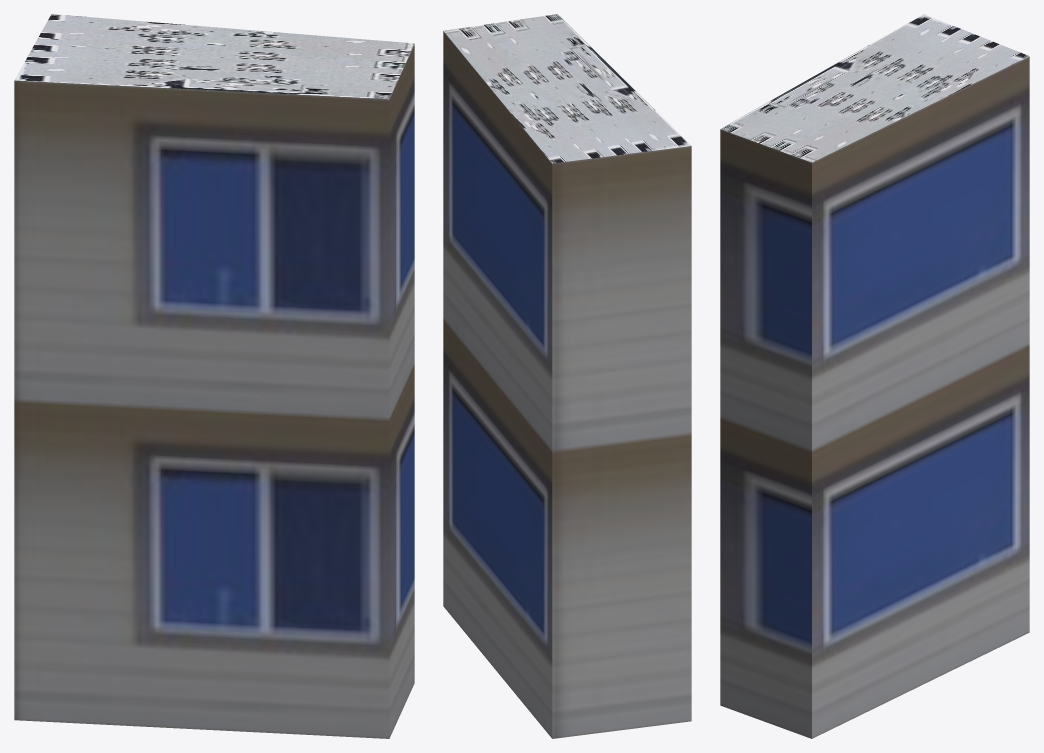
The model's file is ResTex__5123.fbx.
The picture shows the model from 3 angles, left to right: view 1: azimuth 30°, elevation 25°; view 2: azimuth 150°, elevation 25°; view 3: azimuth 270°, elevation 25°; orthographic projection. The views are drawn at different scales.
Parts seen in each view (by area): view 1: CityEngineMaterial_23_m, CityEngineMaterial_4_m; view 2: CityEngineMaterial_23_m, CityEngineMaterial_4_m; view 3: CityEngineMaterial_23_m, CityEngineMaterial_4_m.
Boxes of the visible parts, <box> form: CityEngineMaterial_23_m: <box>14,44,414,738</box>; CityEngineMaterial_4_m: <box>14,14,414,99</box>; CityEngineMaterial_23_m: <box>443,31,691,738</box>; CityEngineMaterial_4_m: <box>443,14,691,163</box>; CityEngineMaterial_23_m: <box>720,56,1029,738</box>; CityEngineMaterial_4_m: <box>720,14,1029,162</box>.
Bounding box in the file's own units: 3.32 × 6 × 2.92.
Materials: 2 (2 with a texture image).
